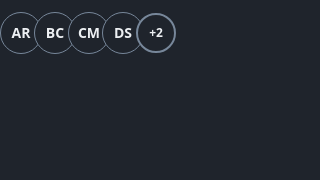
Scenario: AvatarGroup › shows the default visible members and pluralized overflow control
Later steps or results of the test are not shown.
Check: the picture named "Alex Rivera" is shown, box [0, 12, 42, 54]
Check: the picture named "Devon Shah" is shown, box [102, 12, 144, 54]
Click the button named "Show 2 more members".
click(156, 33)  # box [136, 13, 176, 53]
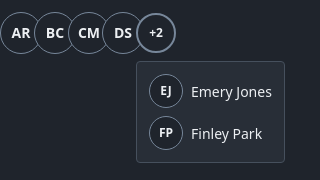
Check: the list named "Additional team members" is shown, box [136, 61, 285, 163]
Check: the text "Emery Jones" is shown, box [191, 80, 272, 102]
